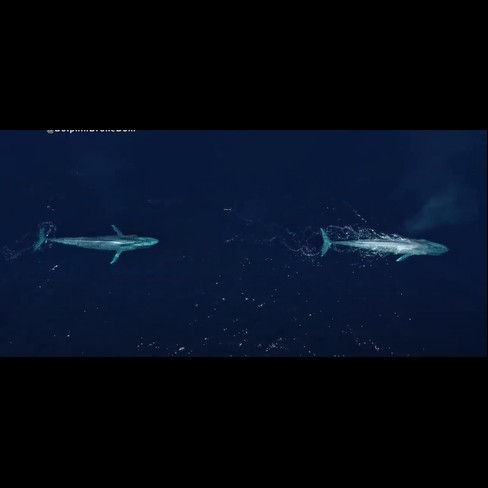bluewhale: (315, 222, 456, 271), (31, 219, 165, 267)
